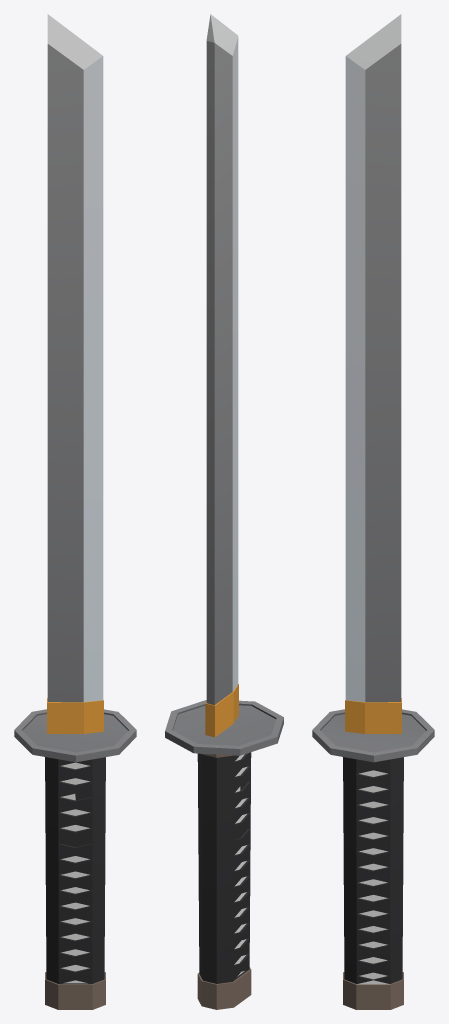
Rendered from katana1 (1).fbx.
3 renders of one model, left to right at view 1: azimuth 90°, elevation 25°; view 2: azimuth 150°, elevation 25°; view 3: azimuth 270°, elevation 25°, orthographic.
Parts seen in each view (by area): view 1: katana1; view 2: katana1; view 3: katana1.
Boxes of the visible parts, <box> form: katana1: <box>14,14,136,1009</box>; katana1: <box>165,14,283,1009</box>; katana1: <box>312,14,434,1009</box>.
Bounding box in the file's own units: 70.9 × 635 × 71.49.
